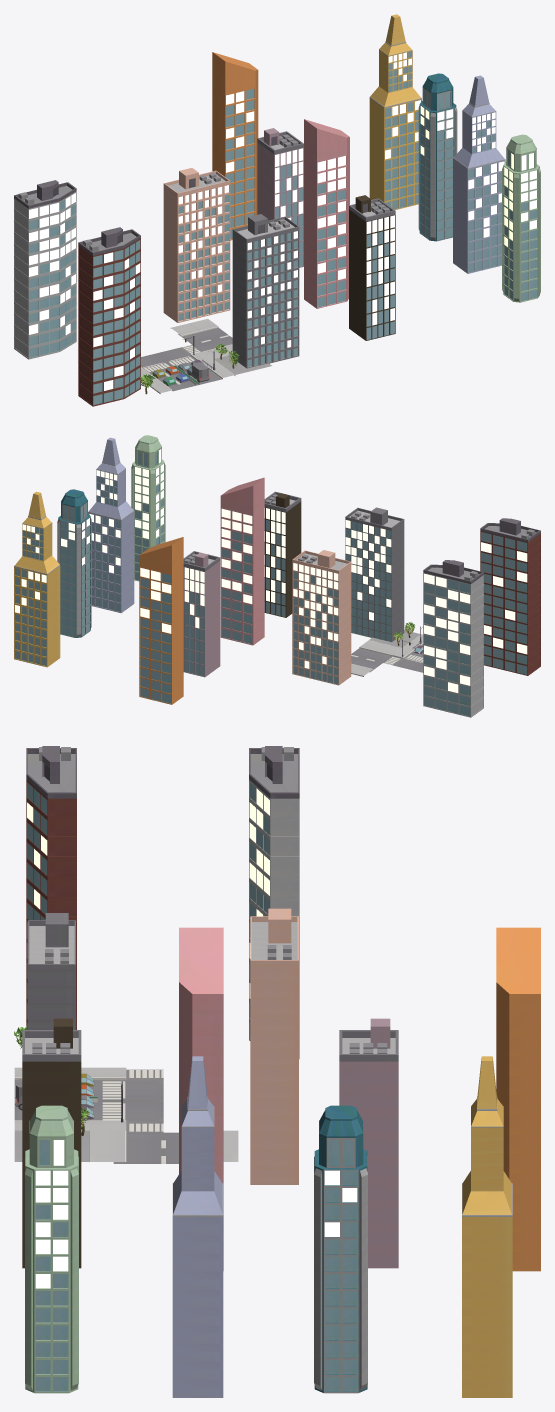
The model's file is AssetsCity.fbx.
3 renders of one model, top to bottom at view 1: azimuth 30°, elevation 25°; view 2: azimuth 150°, elevation 25°; view 3: azimuth 270°, elevation 25°, orthographic. The views are drawn at different scales.
Parts seen in each view (by area): view 1: Building2, Building8, Building7, Building1, Building3, Building4, Building12, Building10, Building5, Building6, Building11, Building9 (+5 smaller); view 2: Building8, Building2, Building7, Building1, Building3, Building10, Building12, Building4, Building11, Building9, Building5, Building6 (+3 smaller); view 3: Building6, Building11, Building4, Building12, Building10, Building7, Building9, Building2, Building8, Building3, Building5, Building1 (+4 smaller).
Boxes of the visible parts, <box> form: Building2: <box>78,227,140,406</box>; Building8: <box>14,180,76,359</box>; Building7: <box>163,168,230,322</box>; Building1: <box>232,214,299,368</box>; Building3: <box>304,119,349,308</box>; Building4: <box>453,75,505,273</box>; Building12: <box>369,14,421,209</box>; Building10: <box>212,52,258,240</box>; Building5: <box>349,195,395,340</box>; Building6: <box>502,134,540,302</box>; Building11: <box>418,73,457,241</box>; Building9: <box>257,128,303,267</box>; Building8: <box>423,560,483,717</box>; Building2: <box>480,518,540,675</box>; Building7: <box>292,550,351,685</box>; Building1: <box>345,507,404,642</box>; Building3: <box>220,477,264,645</box>; Building10: <box>139,537,183,704</box>; Building12: <box>14,491,60,667</box>; Building4: <box>88,437,134,613</box>; Building11: <box>57,489,91,637</box>; Building9: <box>183,551,220,677</box>; Building5: <box>264,491,301,617</box>; Building6: <box>131,435,165,581</box>; Building6: <box>25,1105,78,1393</box>; Building11: <box>314,1105,367,1393</box>; Building4: <box>172,1056,223,1397</box>; Building12: <box>462,1056,512,1397</box>; Building10: <box>496,927,540,1271</box>; Building7: <box>250,908,298,1184</box>; Building9: <box>339,1018,398,1268</box>; Building2: <box>26,746,76,1029</box>; Building8: <box>249,746,299,1059</box>; Building3: <box>179,927,223,1270</box>; Building5: <box>22,1018,81,1268</box>; Building1: <box>27,913,75,1029</box>.
Size of the model in its own units: 204 by 80.47 by 118.
